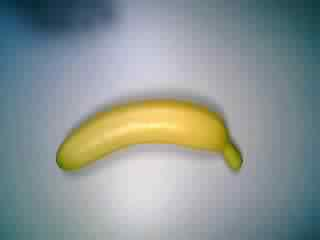banana: (55, 97, 247, 178)
